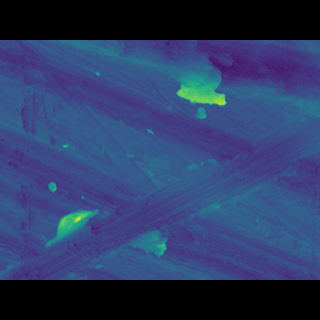Loch: (0, 124, 320, 249)
